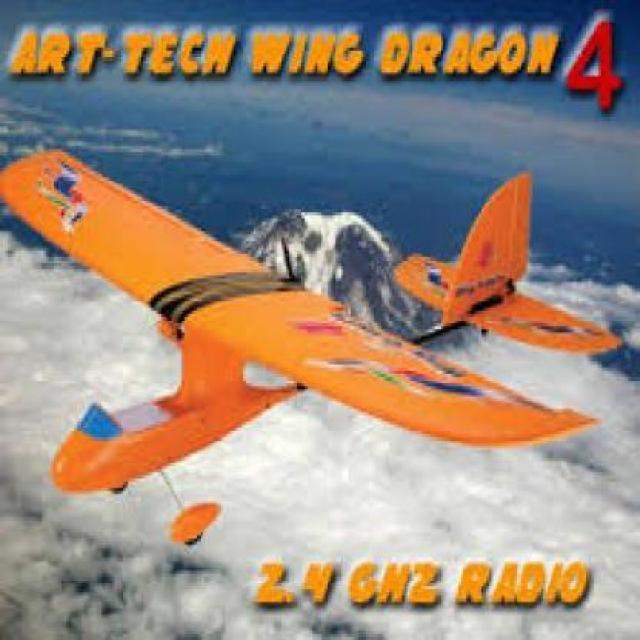iha: (19, 152, 593, 532)
